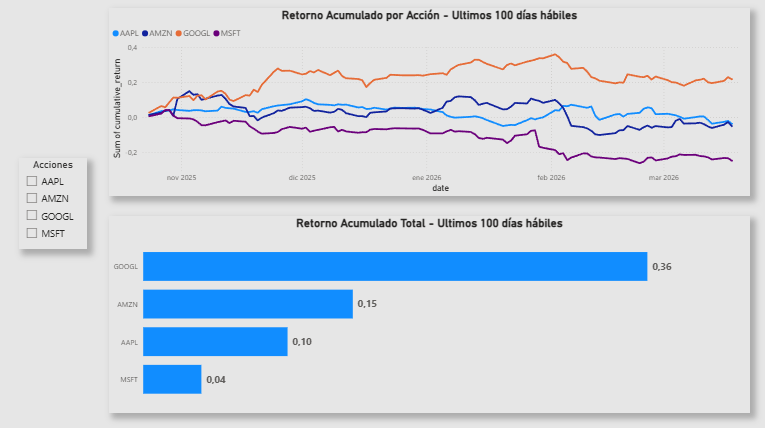

This screenshot's page, from the dashboard's own definition file:
{"tool":"powerbi","page":{"name":"Retorno Acumulado","canvas":[1280,720],"ordinal":4},"visuals":[{"type":"slicer","title":"Acciones","fields":{"Values":["stock_metrics.symbol"]},"box":[31.7,263.3,113.3,151.7],"z":0},{"type":"lineChart","title":"Retorno Acumulado por Acción - Ultimos 100 días hábiles","fields":{"Category":["stock_metrics.date"],"Y":["Sum(stock_metrics.cumulative_return)"],"Series":["stock_metrics.symbol"]},"box":[181.7,13.3,1068.3,313.3],"z":1},{"type":"clusteredBarChart","title":"Retorno Acumulado Total - Ultimos 100 días hábiles","fields":{"Category":["stock_metrics.symbol"],"Y":["Max(stock_metrics.cumulative_return)"]},"box":[181.7,360,1068.3,328.3],"z":2}]}

Visuals, with their boxes in screenshot pixels (x1, y1, x2, y2), scaled from the page's 1280x720 canvas onto the 765x428 screenshot:
"Acciones" slicer: (19,157,87,247)
"Retorno Acumulado por Acción - Ultimos 100 días hábiles" lineChart: (109,8,747,194)
"Retorno Acumulado Total - Ultimos 100 días hábiles" clusteredBarChart: (109,214,747,409)
